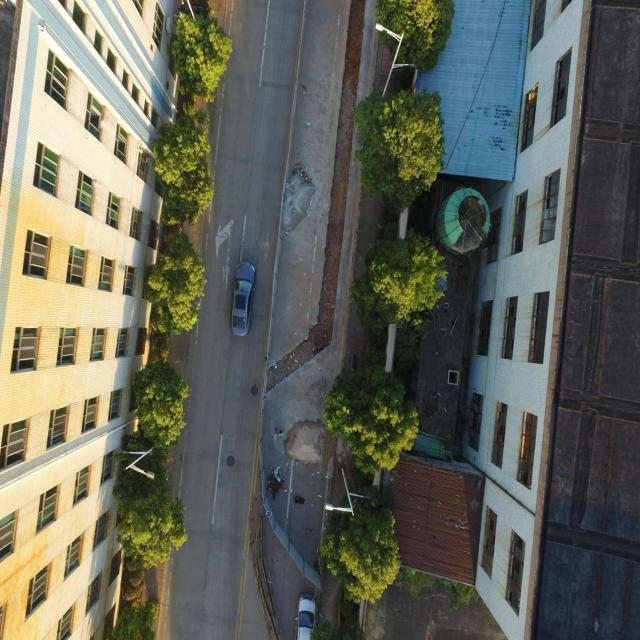p3rson: (277, 423, 285, 437), (272, 426, 278, 440)
